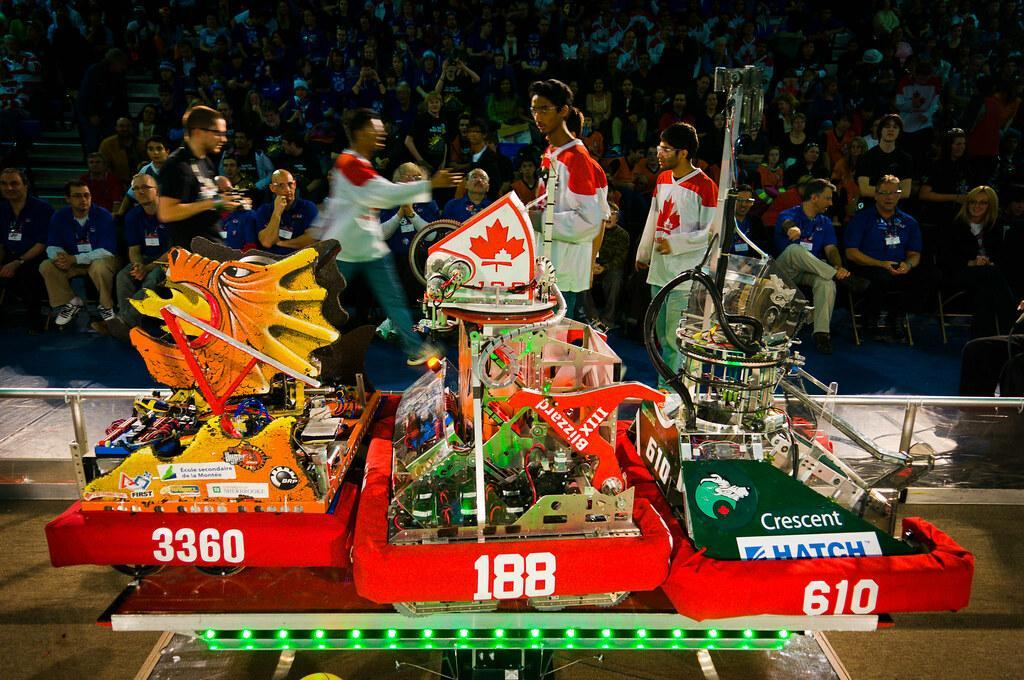robot: (623, 57, 987, 630), (345, 149, 680, 625), (43, 214, 386, 583)
